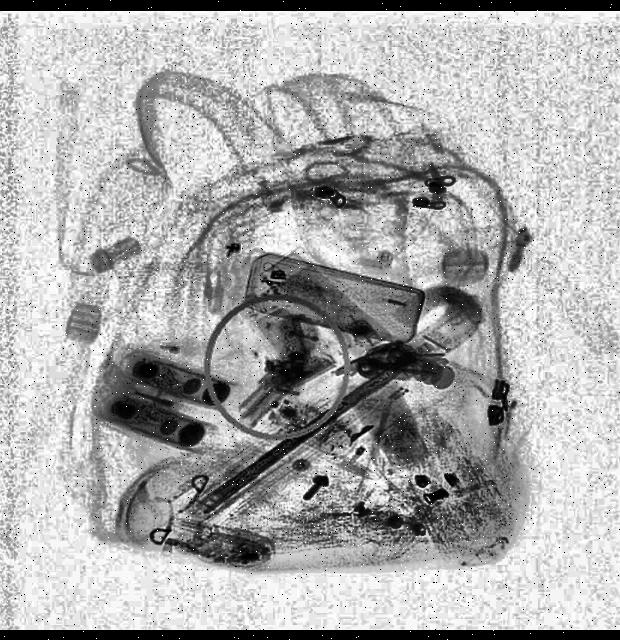Gun: (232, 313, 338, 437)
